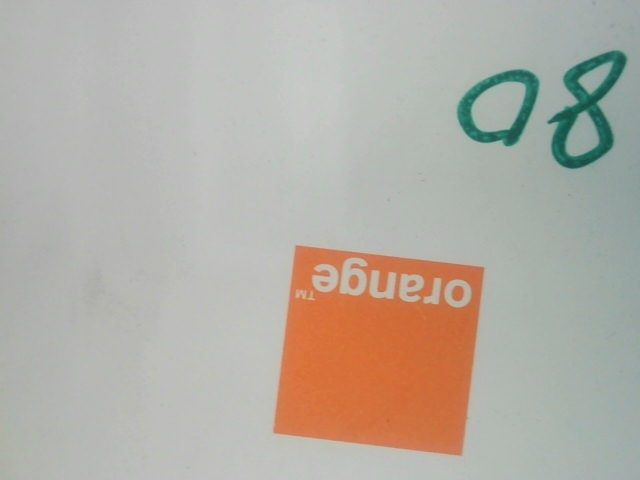AR_Orange: (262, 238, 484, 456)
